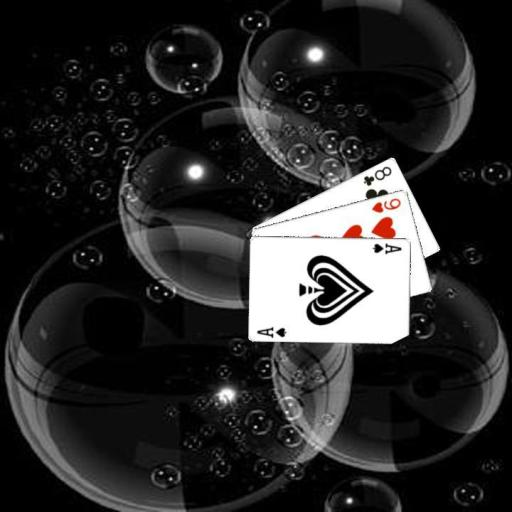8C: (361, 163, 393, 187)
9H: (369, 194, 403, 214)
AS: (254, 324, 288, 339), (370, 240, 403, 255)
